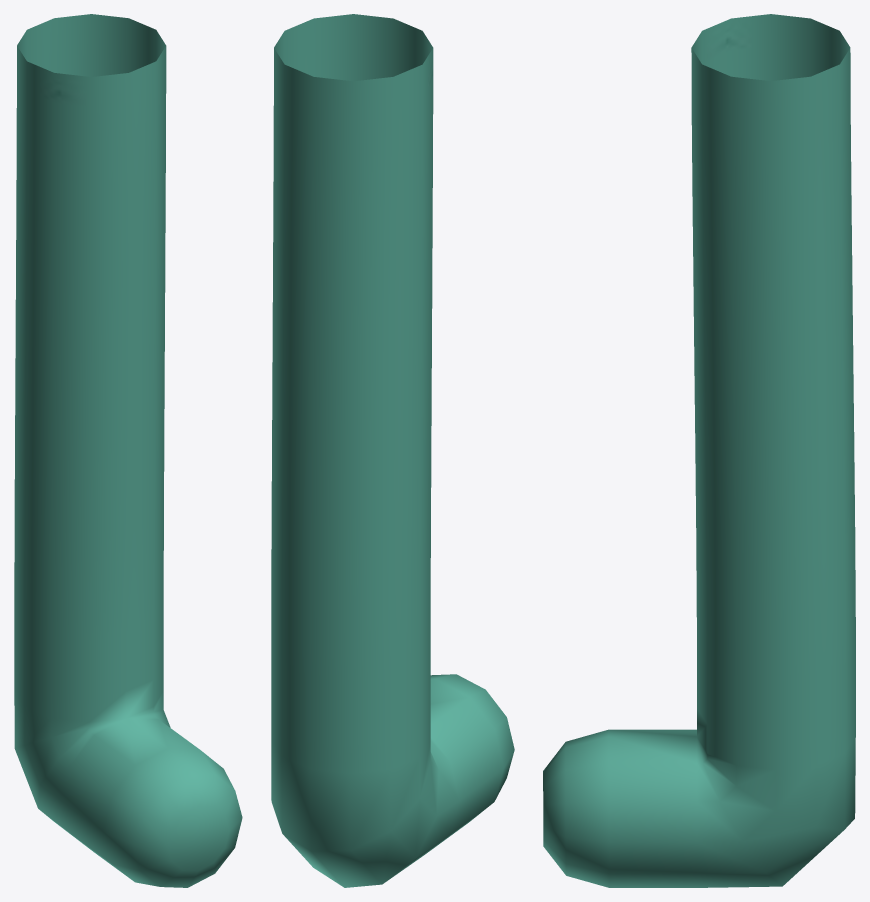
The model's file is bimo_pierna.obj.
3 renders of one model, left to right at view 1: azimuth 30°, elevation 25°; view 2: azimuth 150°, elevation 25°; view 3: azimuth 270°, elevation 25°, orthographic. The views are drawn at different scales.
Parts seen in each view (by area): view 1: piernaIzq; view 2: piernaIzq; view 3: piernaIzq.
Boxes of the visible parts, x1,y1,x2,y2 form: piernaIzq: (14, 14, 242, 887); piernaIzq: (271, 14, 514, 887); piernaIzq: (543, 14, 855, 887).
Bounding box in the file's own units: 0.24 × 1.39 × 0.472.
